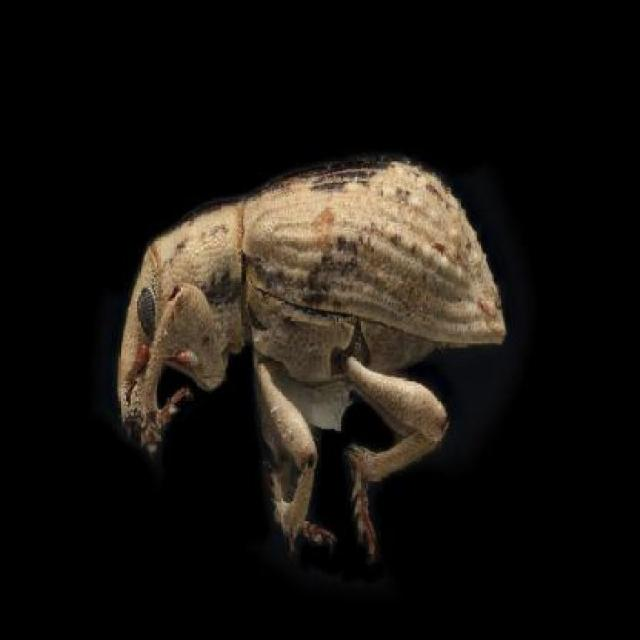rice-bug: (116, 158, 519, 545)
